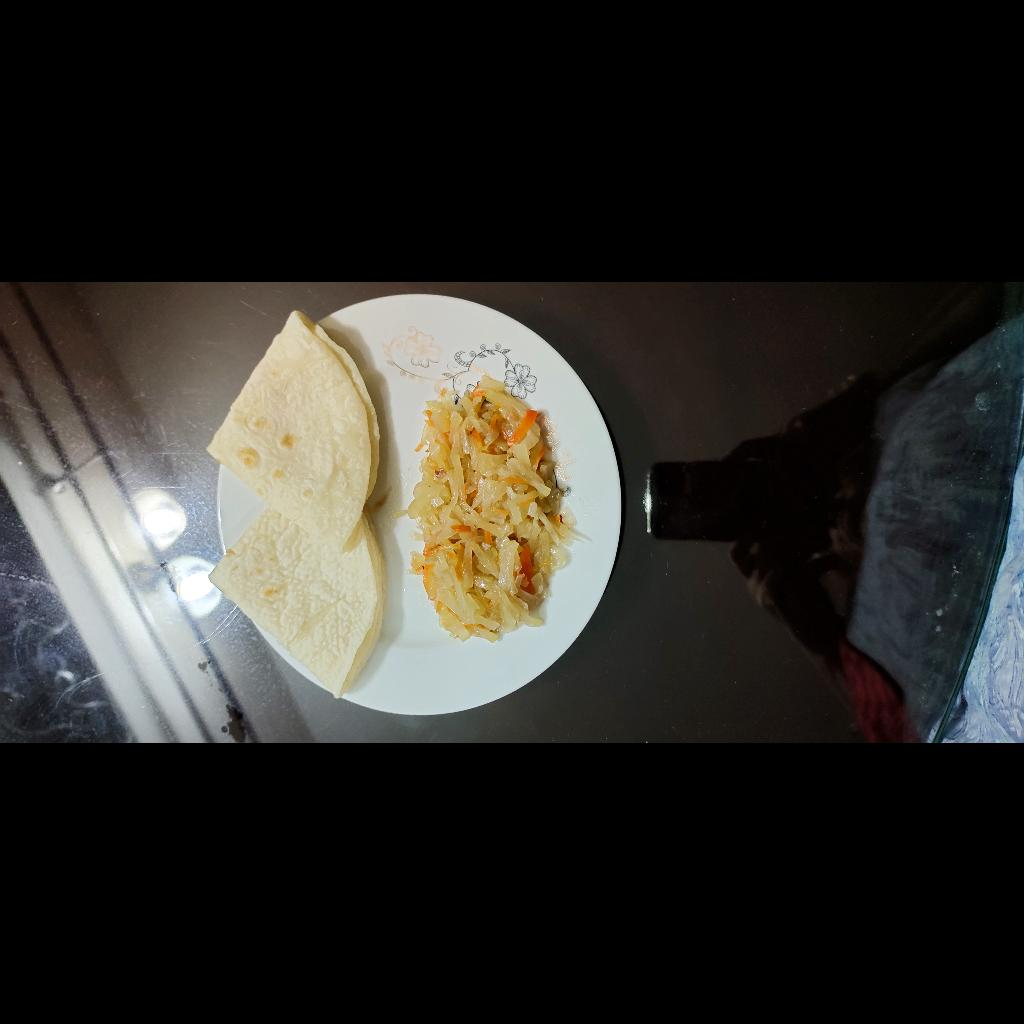ruti: (48, 482, 438, 665)
vaji: (102, 690, 365, 851)
